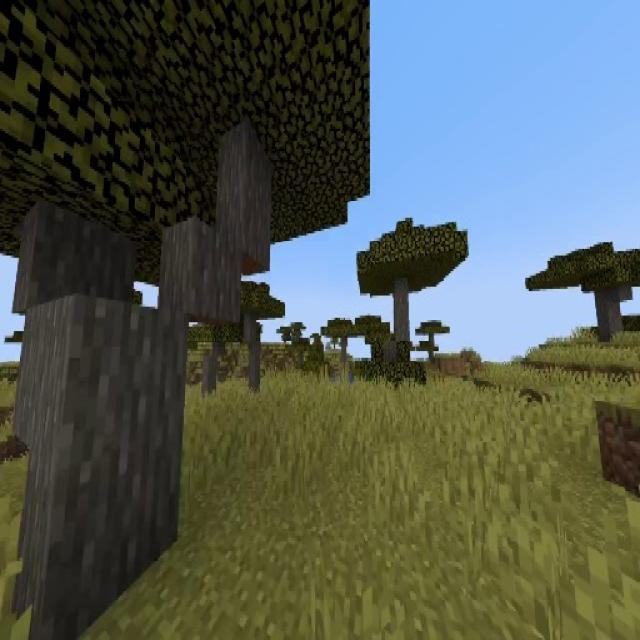acacia: (0, 4, 372, 640), (358, 217, 468, 386), (524, 241, 640, 350), (226, 280, 286, 393)
acacia_log: (23, 298, 183, 640), (163, 220, 240, 325), (218, 128, 269, 278), (596, 290, 620, 344), (394, 281, 410, 343), (202, 356, 216, 396), (248, 349, 260, 392), (243, 314, 254, 346)
